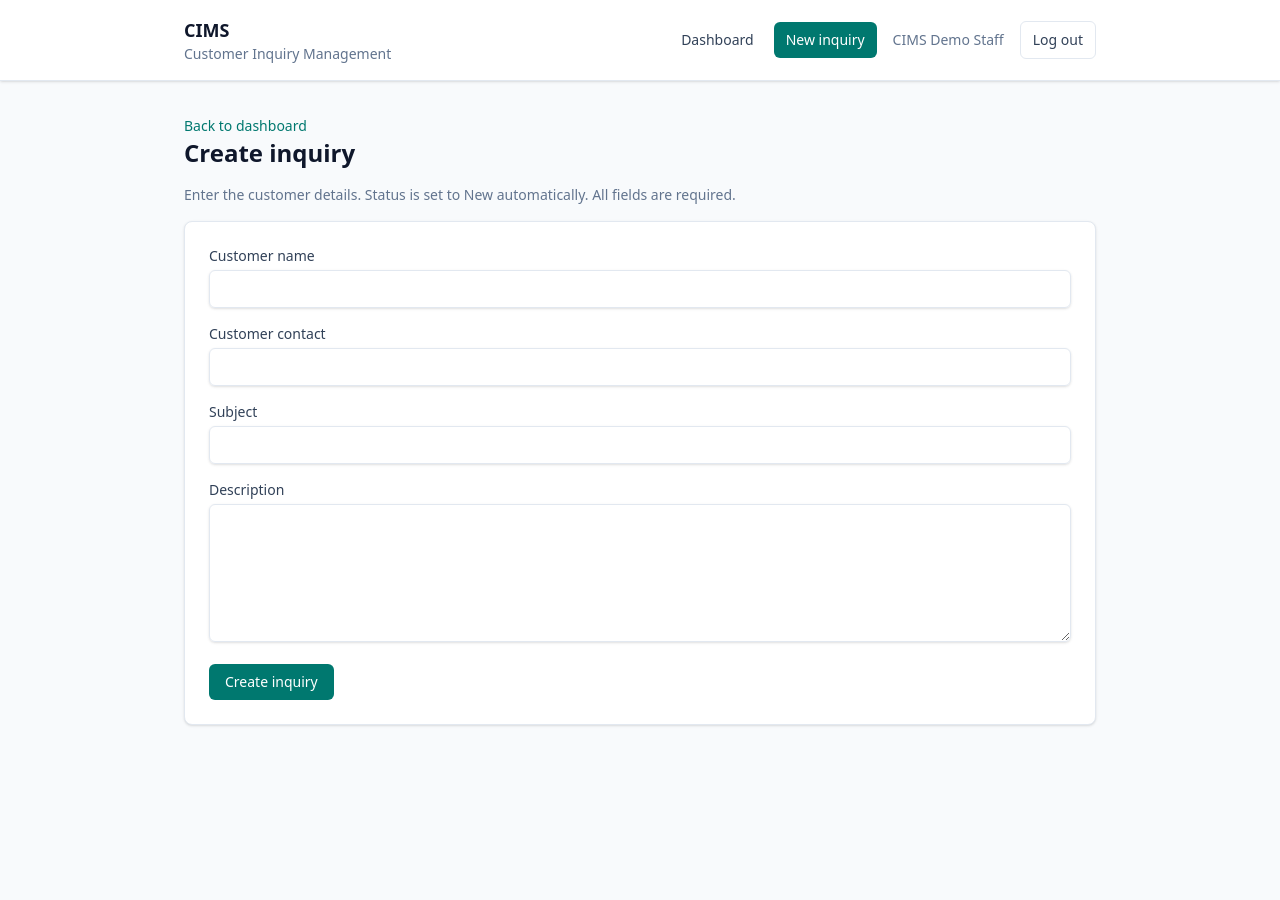
Test: Create inquiry › shows backend validation errors
Type "Ada Customer" into the field labelled "Customer name". click: (640, 289)
box: [209,270,1071,308]
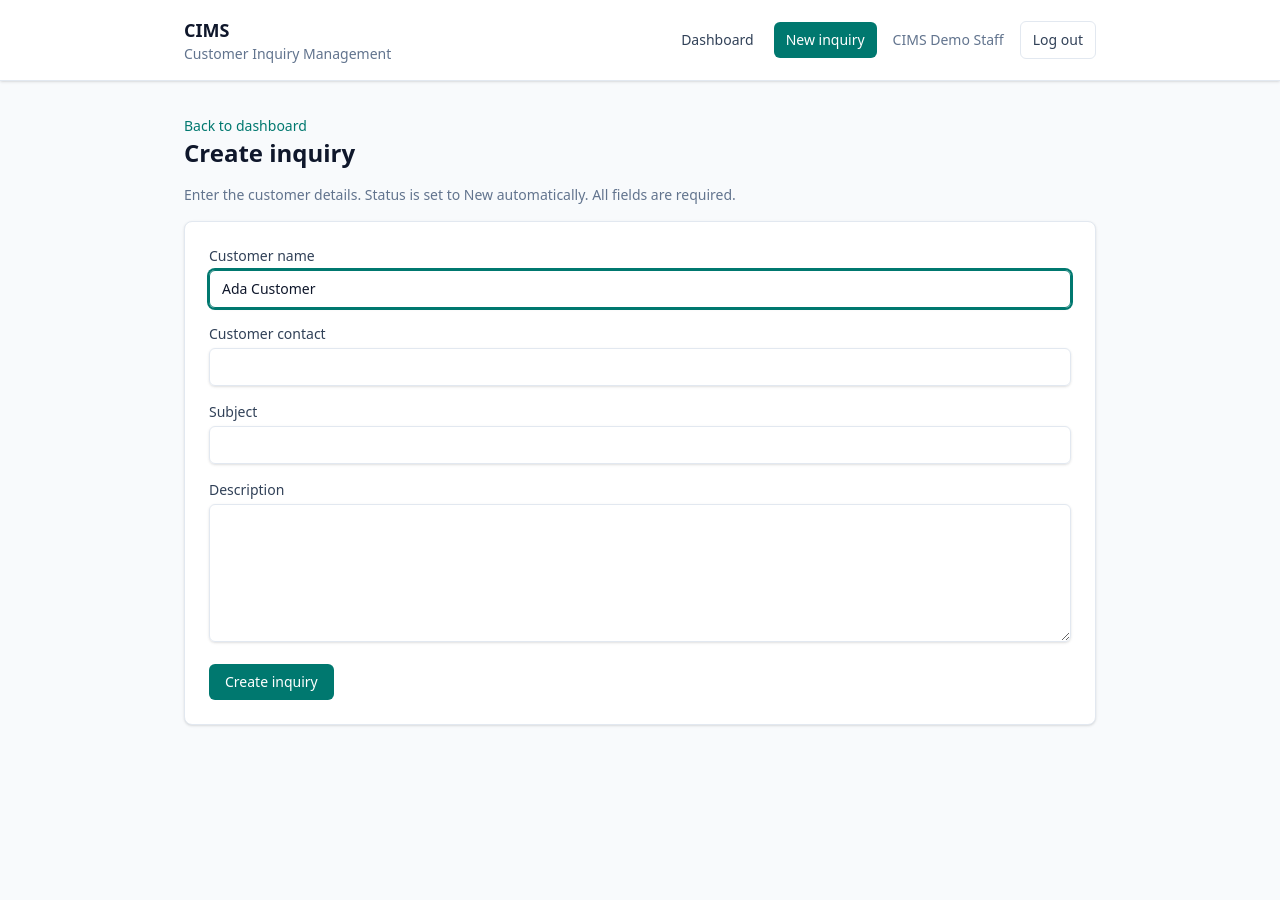
Type "ada@example.com" into the field labelled "Customer contact". click: (640, 367)
box: [209,348,1071,386]
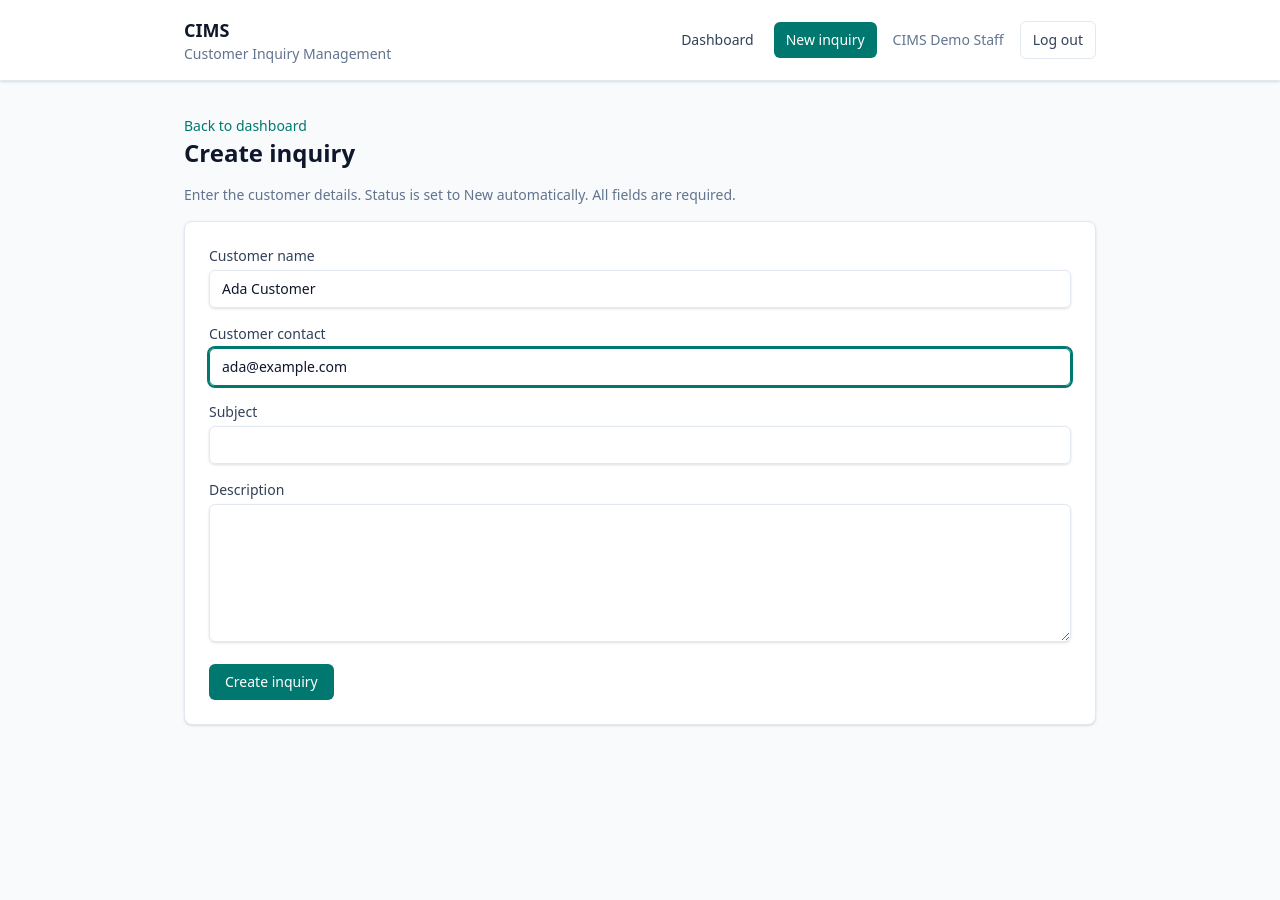
Type "Follow-up" into the field labelled "Subject". click: (640, 445)
box: [209,426,1071,464]
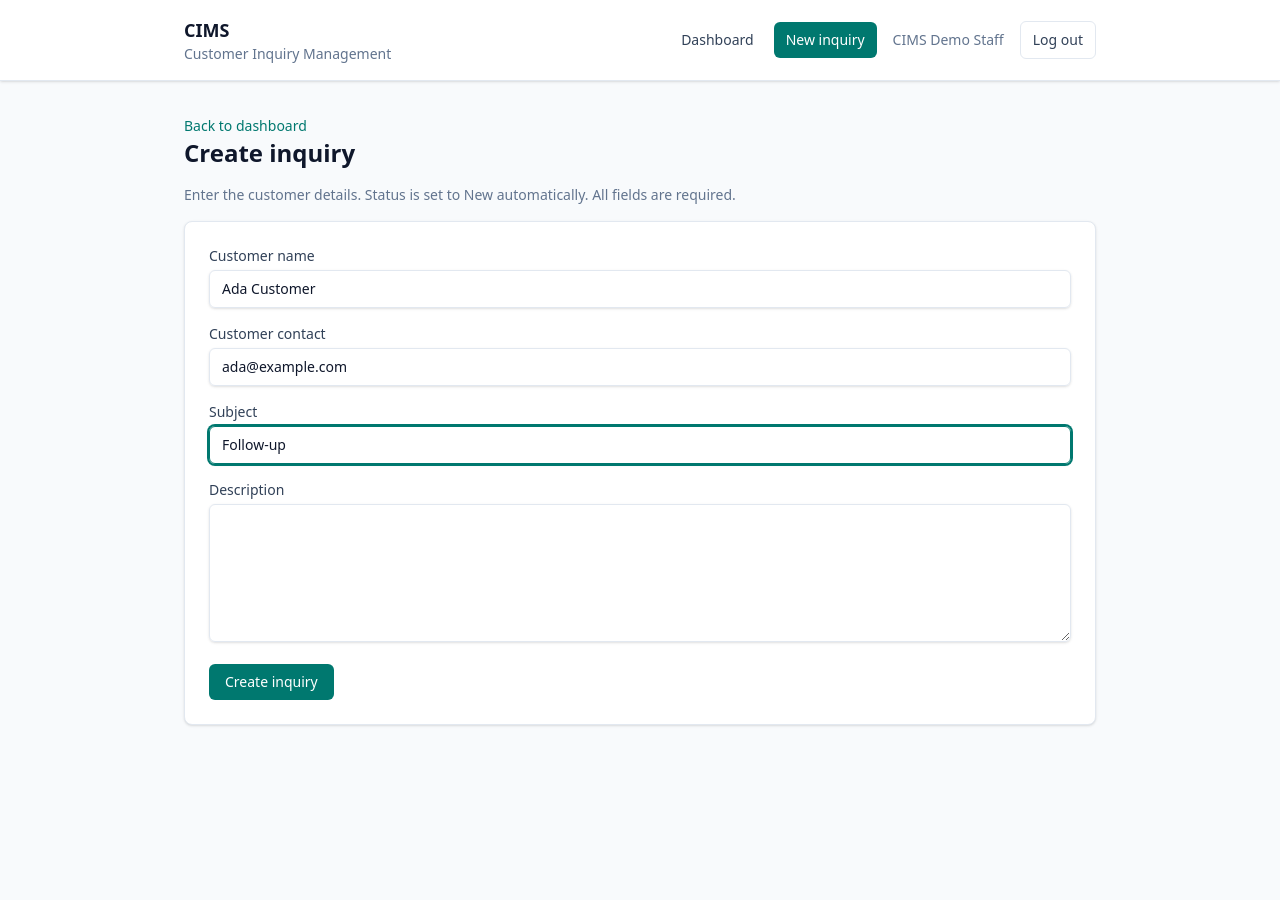
Type "Please call back." into the text box labelled "Description". click: (640, 573)
box: [209,504,1071,642]
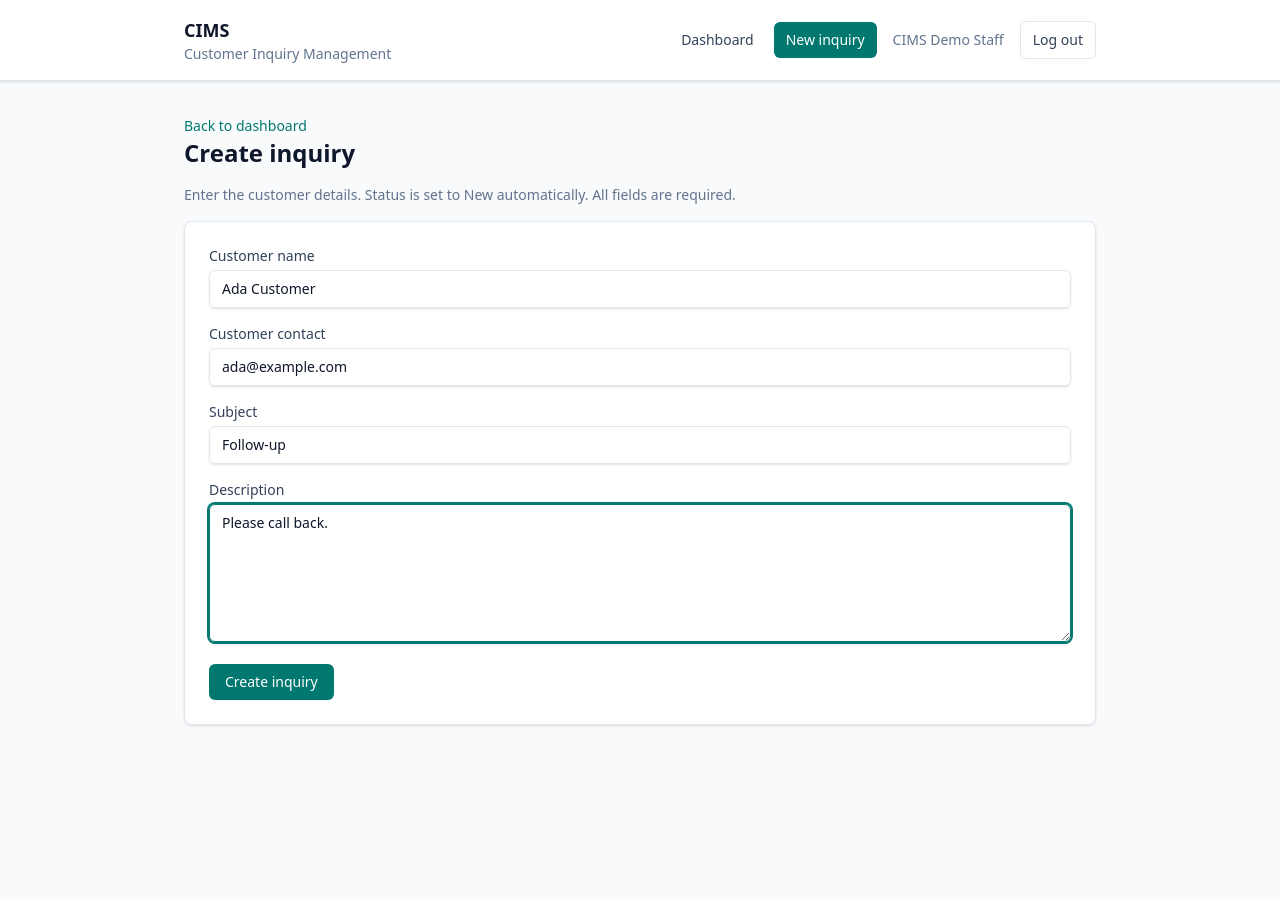
Click the button "Create inquiry". click: (271, 682)
box: [209,664,334,700]
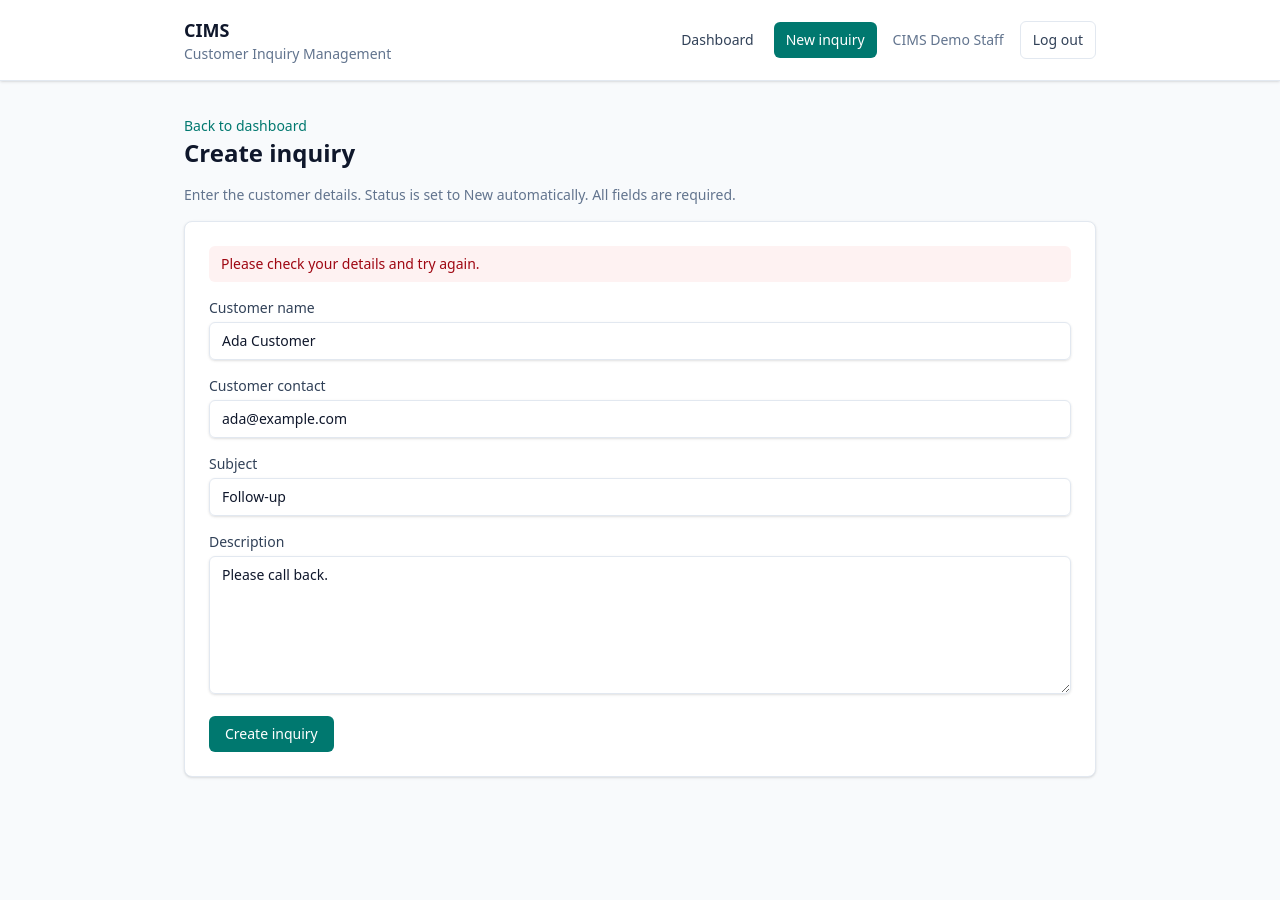
Result: the message reads "Please check your details and try again." at [221,254,480,273]
